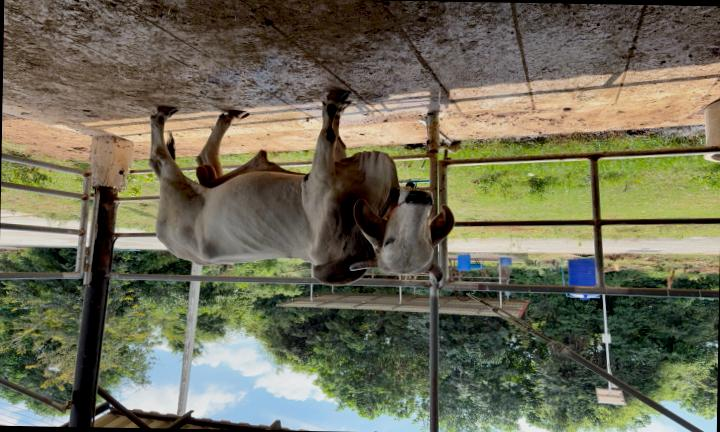Brahman: (149, 92, 454, 285)
